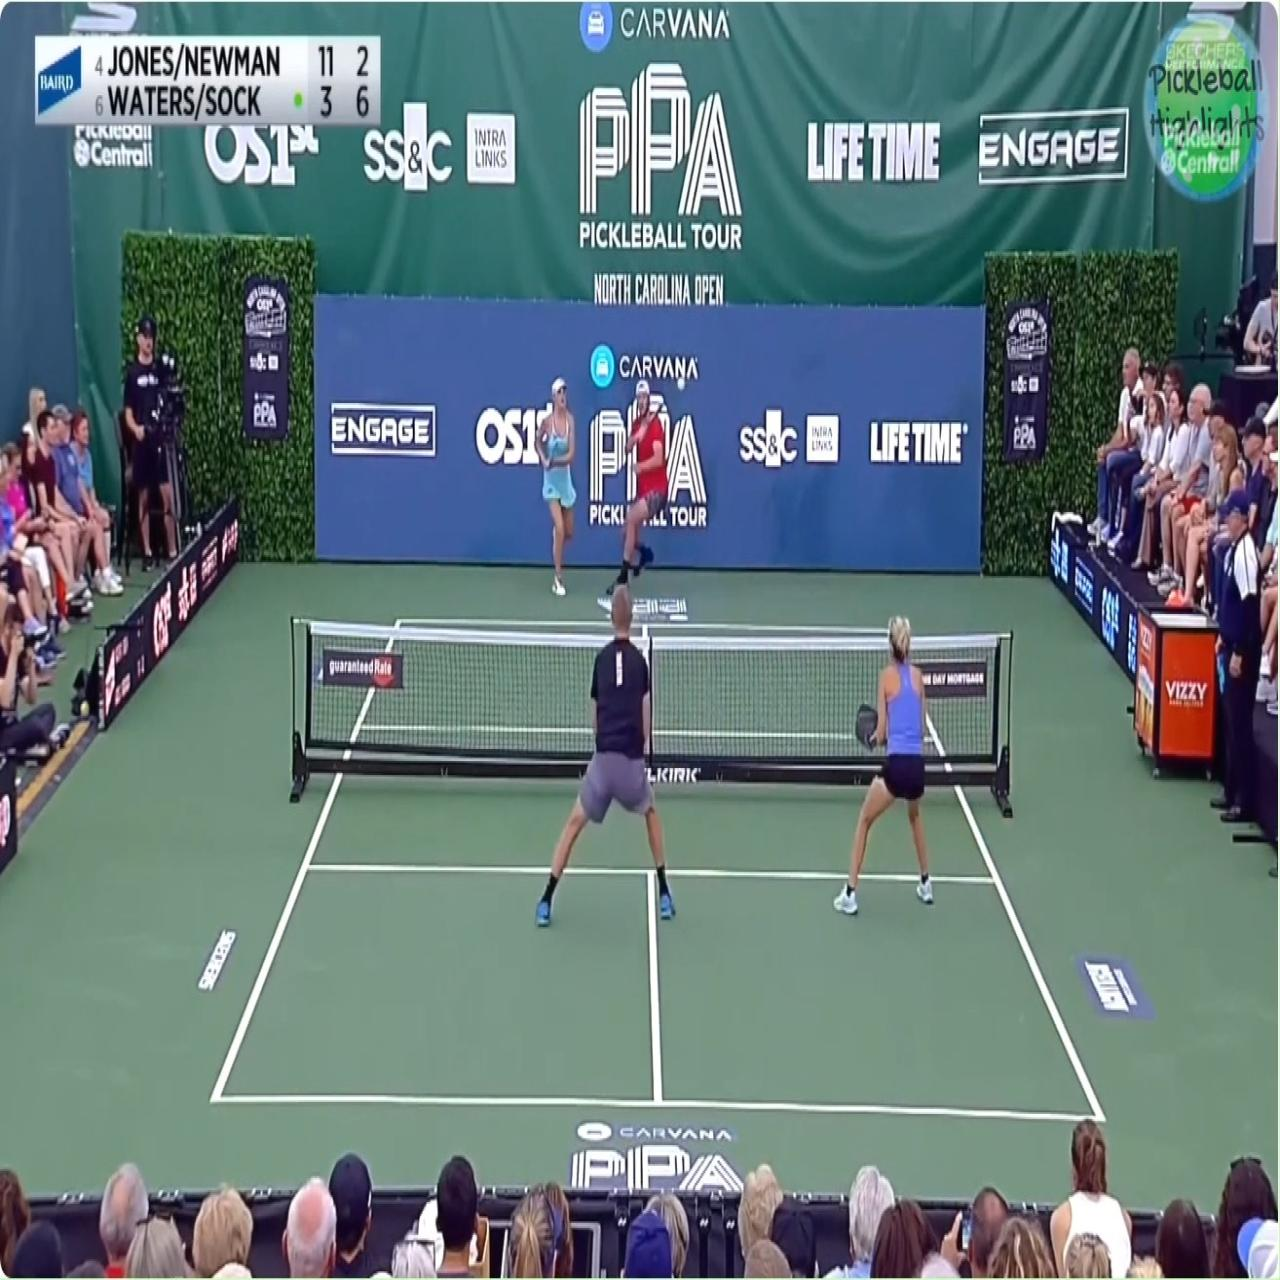pickleball: (678, 376, 686, 390)
